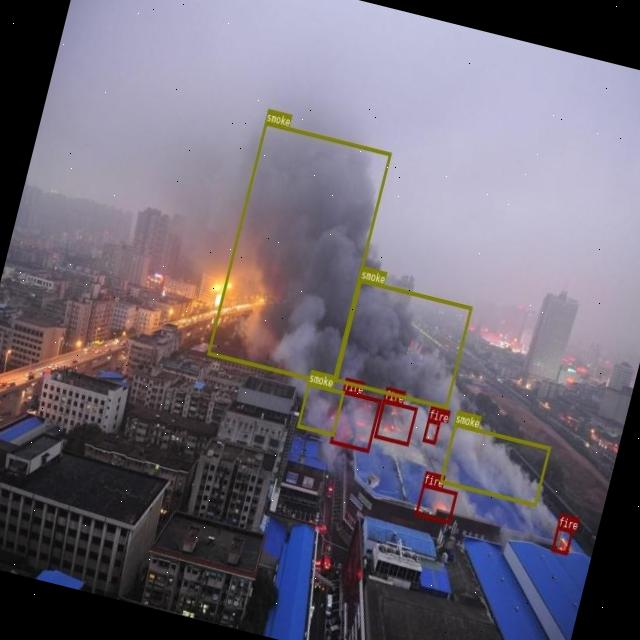fire: (328, 389, 381, 452), (374, 398, 416, 444), (414, 483, 456, 523), (551, 526, 573, 554), (422, 418, 439, 443)
smoke: (207, 121, 390, 385), (334, 278, 472, 408), (439, 422, 550, 507), (296, 382, 344, 436)
